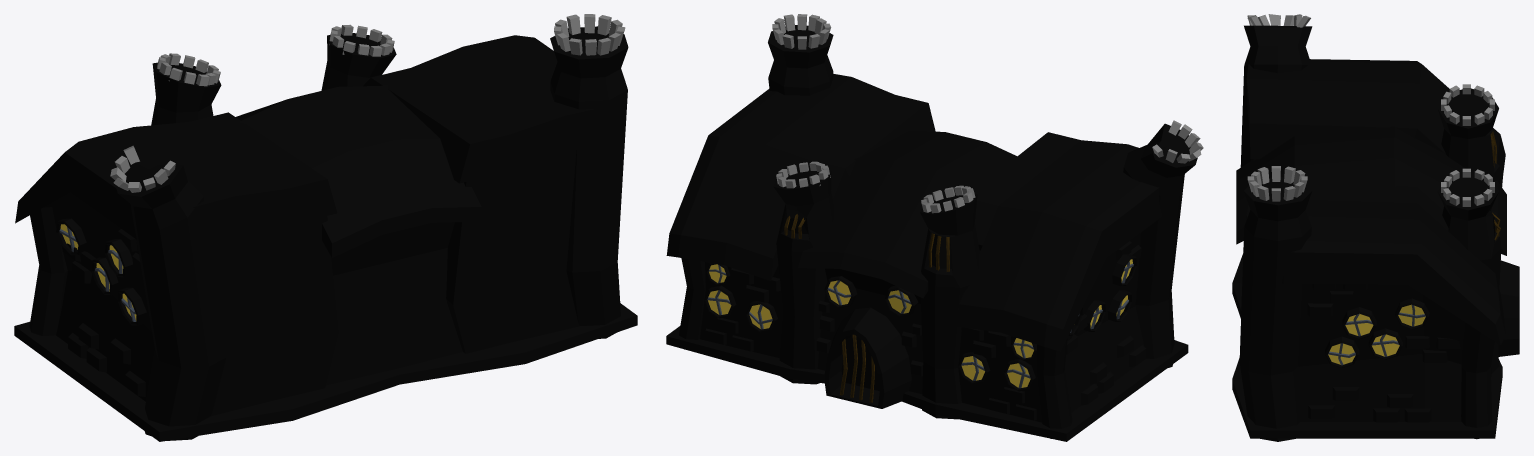
The model's file is Casa Vanpiro.fbx.
3 renders of one model, left to right at view 1: azimuth 30°, elevation 25°; view 2: azimuth 150°, elevation 25°; view 3: azimuth 270°, elevation 25°, orthographic. The views are drawn at different scales.
Parts seen in each view (by area): view 1: Cube.011, Cube.012, Cube.013, Cube.014, Cylinder.004, Cube.017; view 2: Cube.012, Cube.011, Cube.013, Cube.014, Cylinder.004, Cube.017, Cylinder.003, Cube.015; view 3: Cube.011, Cube.012, Cube.013, Cube.014, Cube.017, Cylinder.004, Cylinder.003.
Part boxes in pixels (x1,y1,x2,y2): Cube.011: [29, 26, 628, 440]; Cube.012: [15, 14, 625, 241]; Cube.013: [236, 85, 481, 257]; Cube.014: [14, 303, 637, 441]; Cylinder.004: [56, 218, 146, 325]; Cube.017: [62, 229, 145, 396]; Cube.012: [666, 14, 1203, 351]; Cube.011: [679, 25, 1197, 438]; Cube.013: [798, 131, 1016, 298]; Cube.014: [666, 326, 1188, 441]; Cylinder.004: [704, 254, 1136, 391]; Cube.017: [705, 241, 1146, 420]; Cylinder.003: [824, 307, 911, 408]; Cube.015: [784, 214, 949, 402]; Cube.011: [1239, 25, 1501, 441]; Cube.012: [1246, 14, 1505, 344]; Cube.013: [1236, 126, 1506, 255]; Cube.014: [1232, 253, 1502, 438]; Cube.017: [1307, 284, 1460, 422]; Cylinder.004: [1325, 298, 1491, 376]; Cylinder.003: [1498, 260, 1519, 356].
Bounding box in the file's own units: 1607 × 905 × 931.
